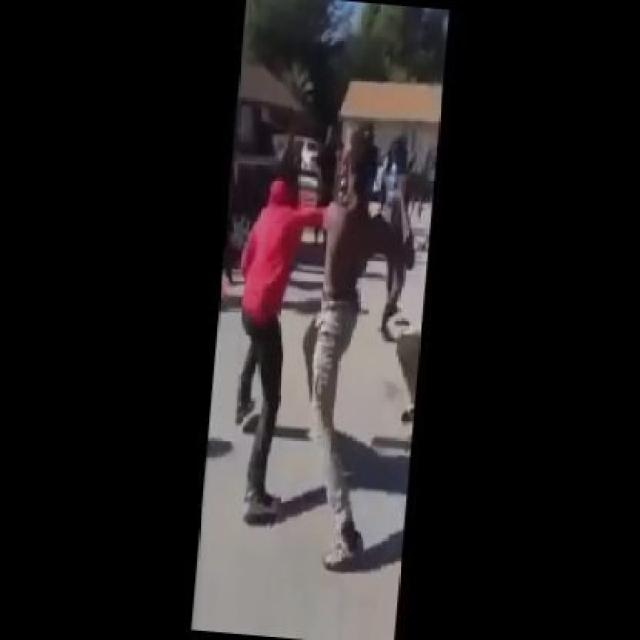fight: (230, 131, 403, 577)
